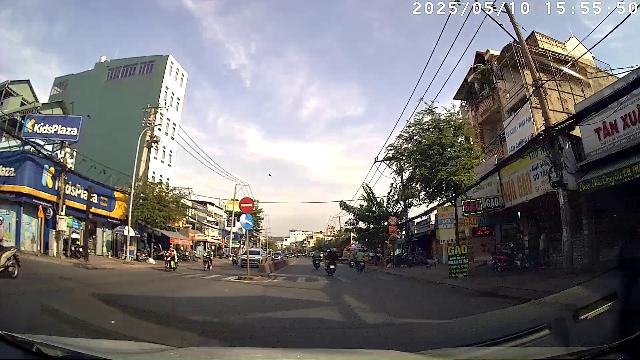102-cam-di-nguoc-chieu: (239, 197, 255, 214)
302a-huong-phai-di-vong-chuong-ngai-vat-1: (239, 214, 254, 230)
